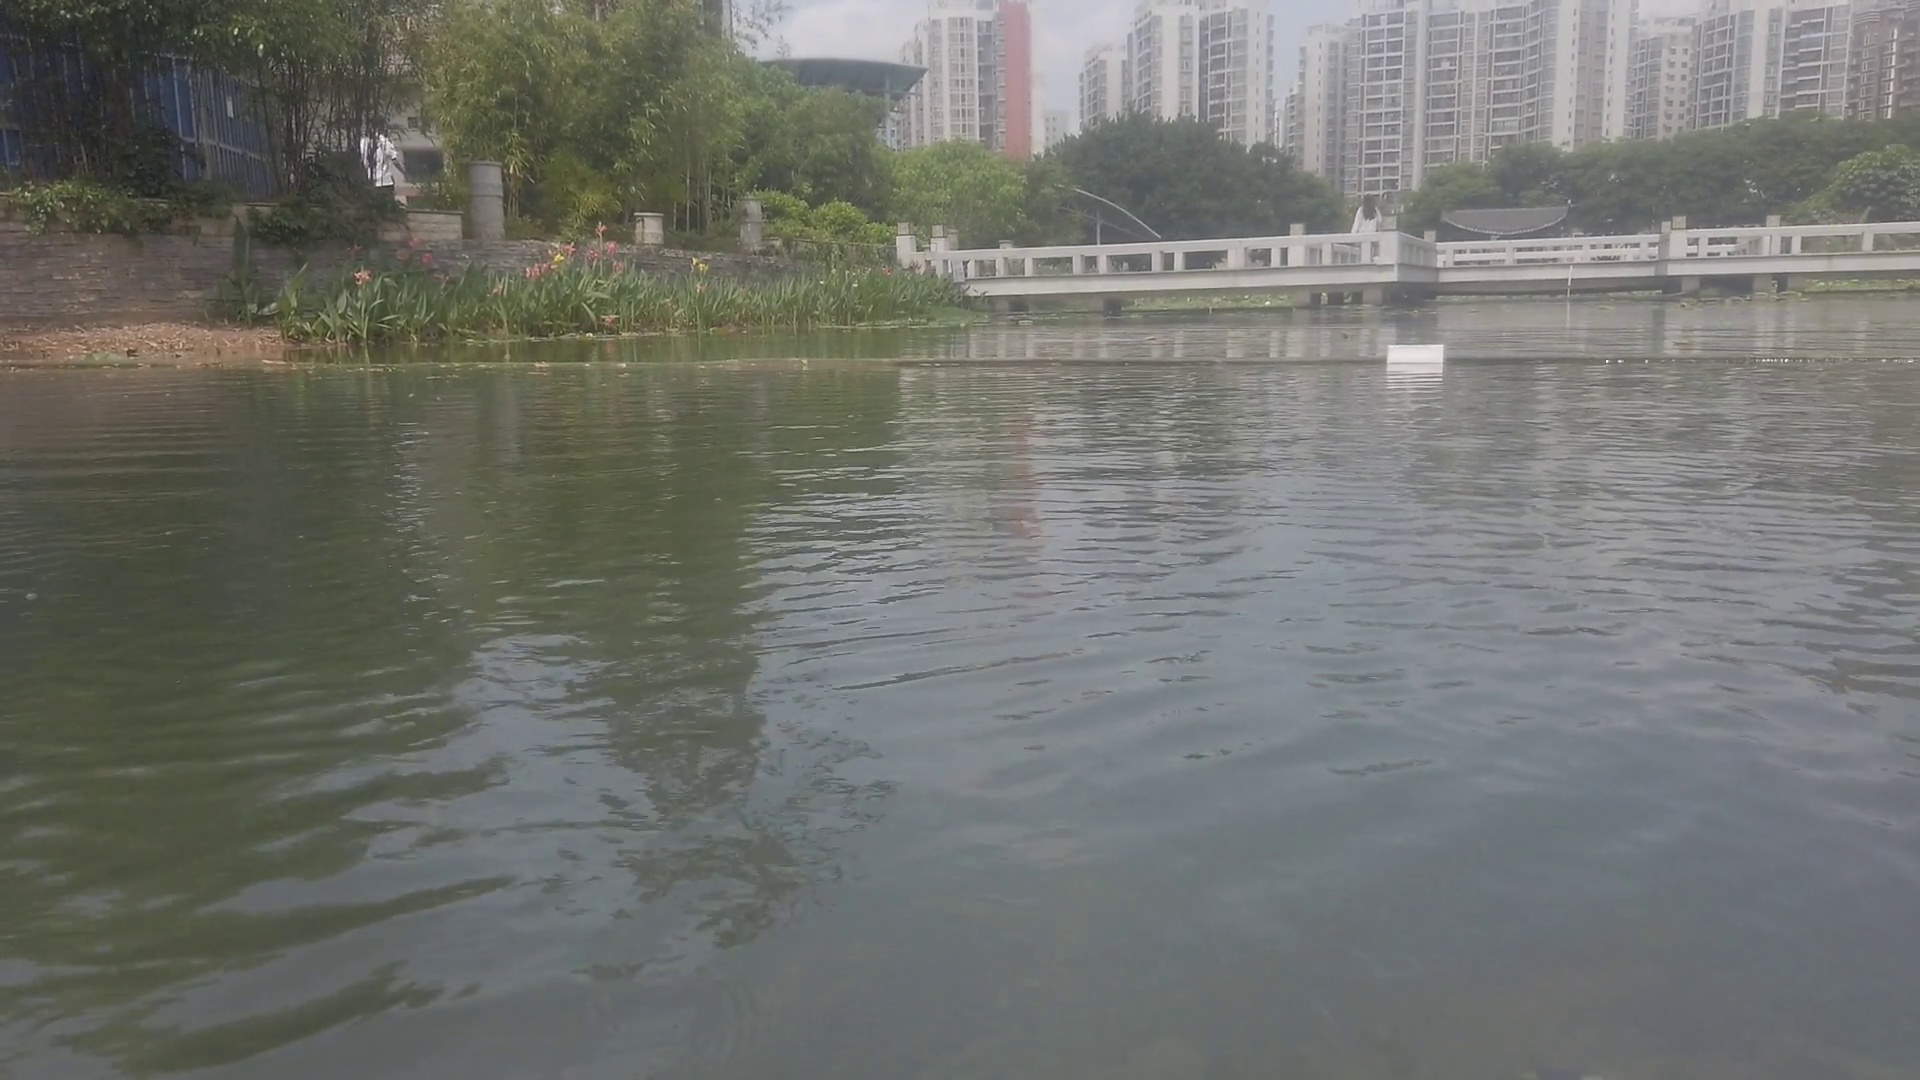carton: (1385, 339, 1451, 369)
